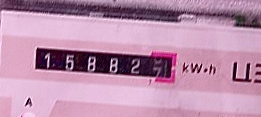1: (40, 48, 52, 67)
2: (128, 55, 140, 74)
5: (62, 51, 74, 69)
7: (150, 64, 162, 76)
8: (83, 52, 96, 70), (106, 54, 118, 73)
screen: (24, 34, 182, 89)
